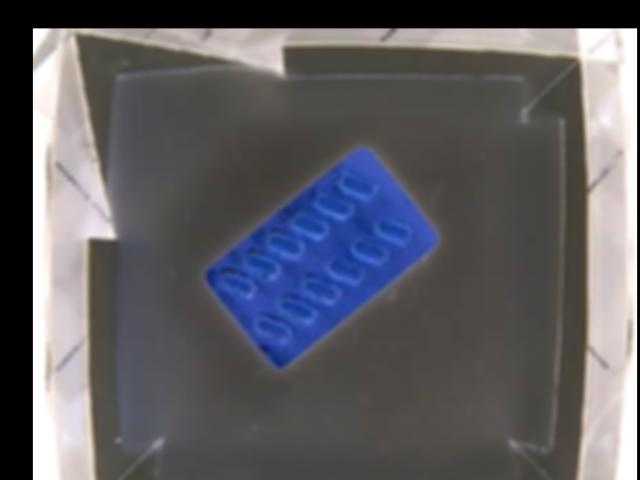Medicine: (202, 148, 443, 369)
